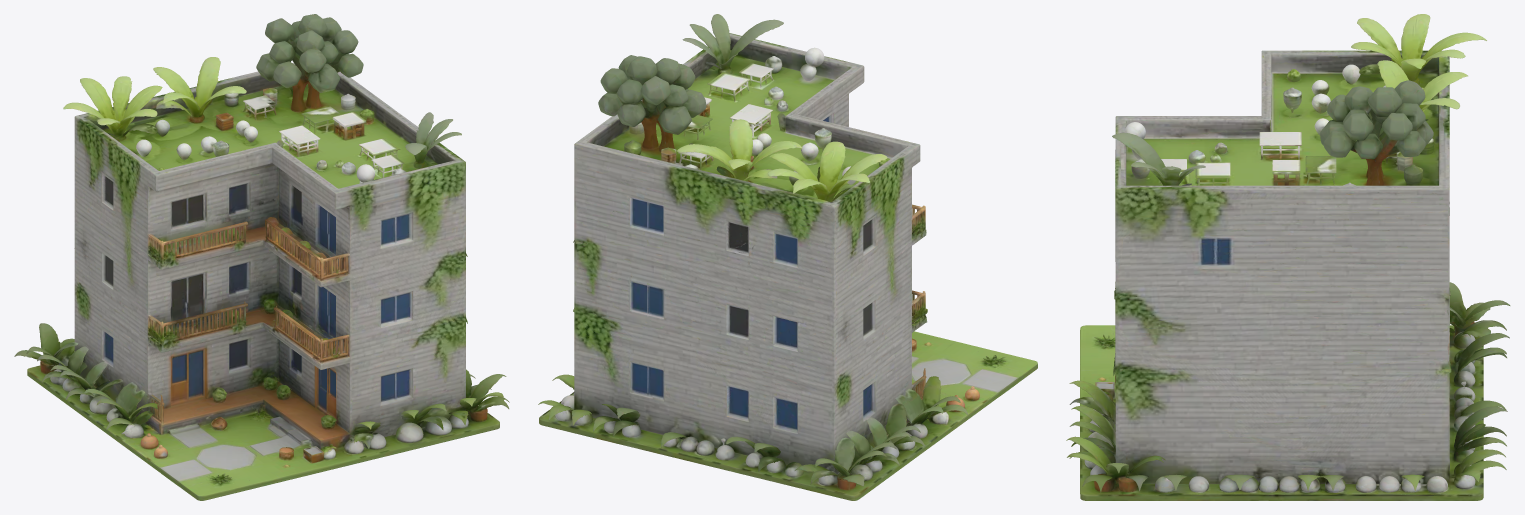
Rendered from building-transformed.glb.
3 renders of one model, left to right at view 1: azimuth 30°, elevation 25°; view 2: azimuth 150°, elevation 25°; view 3: azimuth 270°, elevation 25°, orthographic. The views are drawn at different scales.
Parts seen in each view (by area): view 1: Object_4; view 2: Object_4; view 3: Object_4.
Part boxes in pixels (left/top/right/bottom): Object_4: left=14, top=14, right=509, bottom=500; Object_4: left=538, top=14, right=1037, bottom=500; Object_4: left=1066, top=14, right=1510, bottom=500.
Size of the model in its own units: 0.7536 by 0.7017 by 0.745.
1 material, 1 textured.
